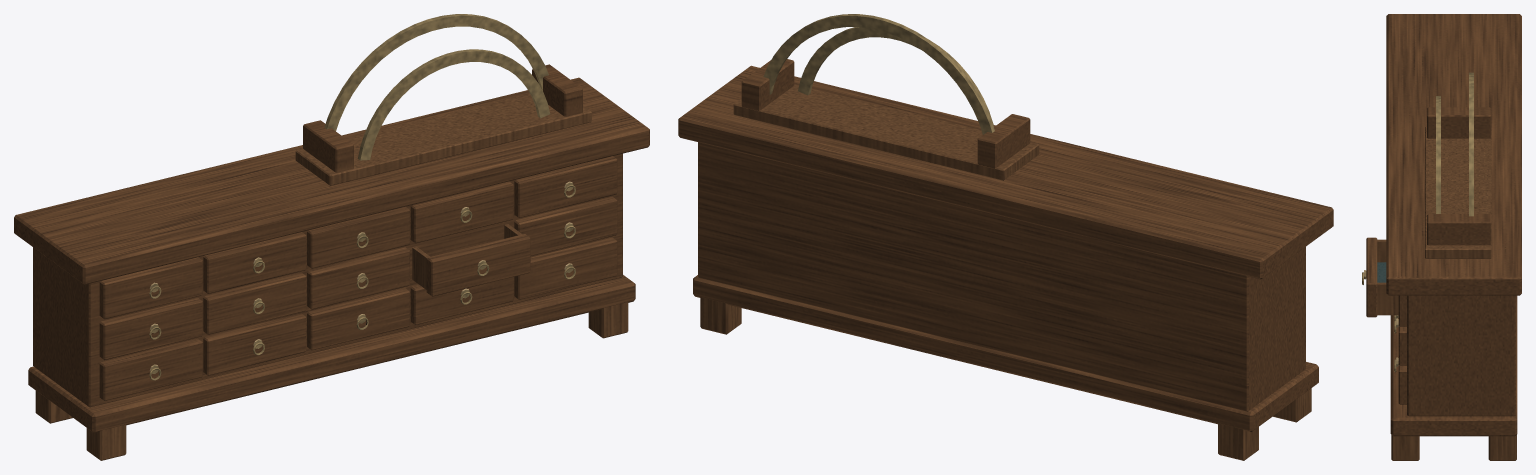
File: ArcCabinet_LOD0.fbx
3 views of the same model, side by side, from view 1: azimuth 30°, elevation 25°; view 2: azimuth 150°, elevation 25°; view 3: azimuth 270°, elevation 25° (orthographic). The views are drawn at different scales.
Parts seen in each view (by area): view 1: ArcCabinet; view 2: ArcCabinet; view 3: ArcCabinet.
Part boxes in pixels (x1,y1,x2,y2): ArcCabinet: (14,14,649,460); ArcCabinet: (678,14,1333,460); ArcCabinet: (1362,14,1521,460).
Bounding box in the file's own units: 2.44 × 1.32 × 0.6228.
1 material, 1 textured.
